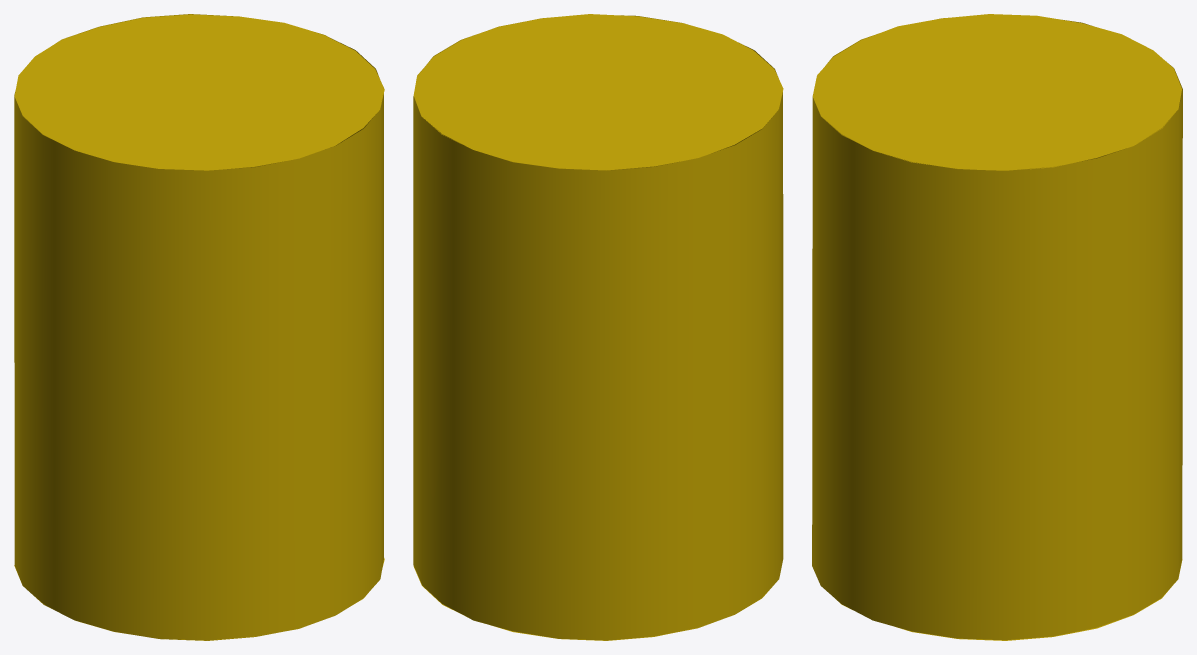
File: original-12.obj
The picture shows the model from 3 angles, left to right: view 1: azimuth 30°, elevation 25°; view 2: azimuth 150°, elevation 25°; view 3: azimuth 270°, elevation 25°; orthographic projection.
Parts seen in each view (by area): view 1: group_11/ID83#ID83; view 2: group_11/ID83#ID83; view 3: group_11/ID83#ID83.
Part boxes in pixels (x1,y1,x2,y2): group_11/ID83#ID83: [14, 14, 384, 640]; group_11/ID83#ID83: [413, 14, 783, 640]; group_11/ID83#ID83: [812, 14, 1182, 640].
Bounding box in the file's own units: 0.0707 × 0.099 × 0.0707.
